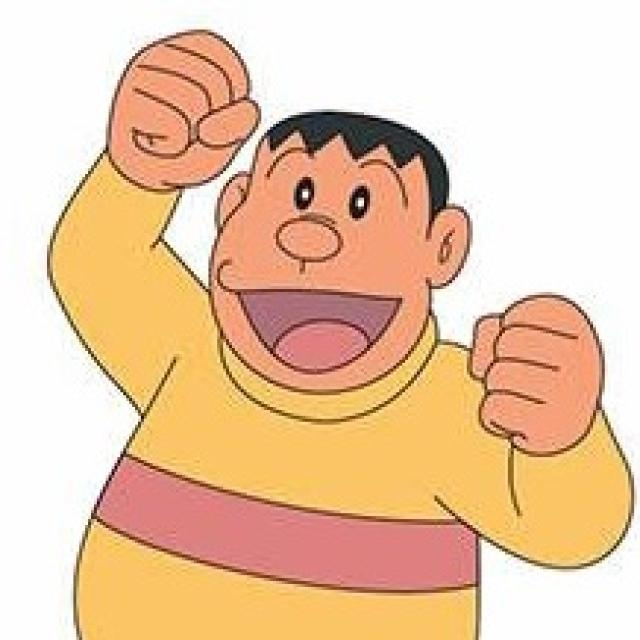jaian: (179, 98, 482, 436)
